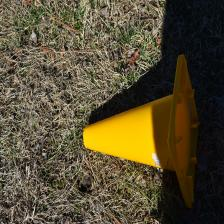cone: (83, 54, 201, 208)
